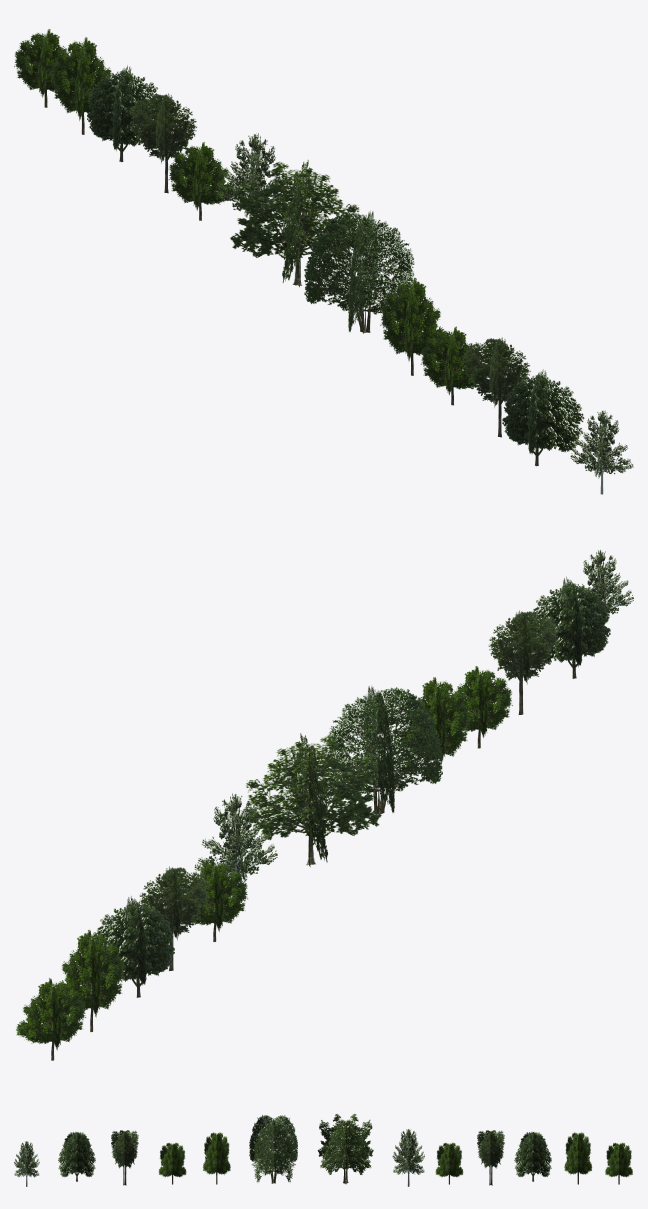
Rendered from v_forest9.gltf.
3 renders of one model, top to bottom at view 1: azimuth 30°, elevation 25°; view 2: azimuth 150°, elevation 25°; view 3: azimuth 270°, elevation 25°, orthographic. The views are drawn at different scales.
Size of the model in its own units: 8.87 by 12.17 by 97.73.
1 material, 1 textured.
